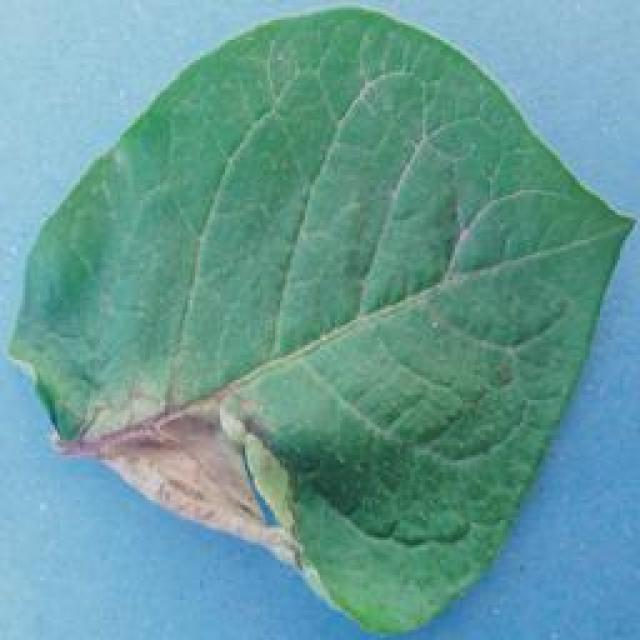Potato_Late_Blight: (0, 0, 637, 619)
